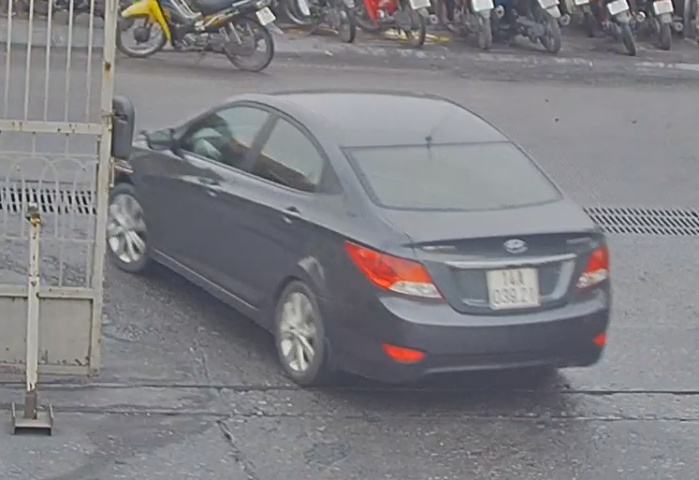vehicle plate: (481, 262, 542, 310)
